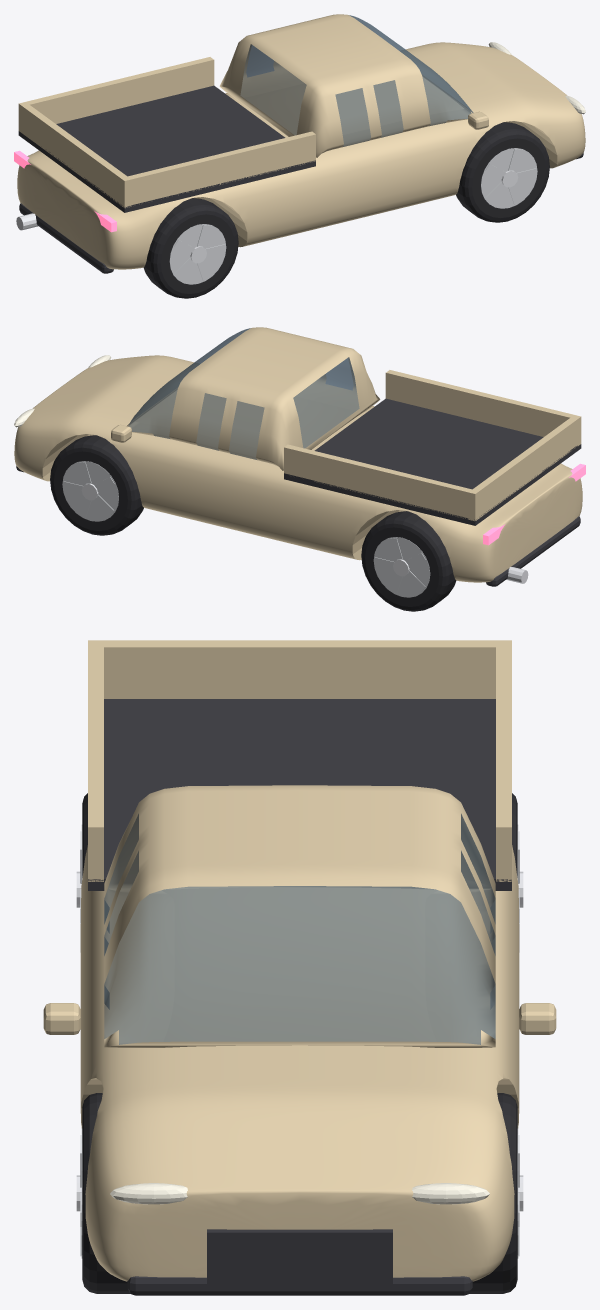
Rendered from mule_pickup.fbx.
The picture shows the model from 3 angles, top to bottom: view 1: azimuth 30°, elevation 25°; view 2: azimuth 150°, elevation 25°; view 3: azimuth 270°, elevation 25°; orthographic projection. The views are drawn at different scales.
Visible parts, largest first — view 1: Body.003, Trim.003, Tire.003, Glass.003, Rim.003, Chrome.003, TailLight.003; view 2: Body.003, Trim.003, Tire.003, Glass.003, Rim.003, Chrome.003, TailLight.003; view 3: Body.003, Glass.003, Trim.003, Tire.003, HeadLight.003, Rim.003.
Boxes of the visible parts, x1,y1,x2,y2 form: Body.003: [17, 14, 585, 269]; Trim.003: [18, 85, 583, 273]; Tire.003: [143, 122, 549, 298]; Glass.003: [240, 15, 473, 146]; Rim.003: [169, 148, 537, 284]; Chrome.003: [16, 170, 518, 263]; TailLight.003: [14, 150, 116, 232]; Body.003: [14, 327, 582, 582]; Trim.003: [16, 398, 581, 586]; Tire.003: [50, 435, 456, 611]; Glass.003: [127, 328, 359, 459]; Rim.003: [62, 461, 430, 597]; Chrome.003: [81, 483, 528, 583]; TailLight.003: [483, 463, 585, 545]; Body.003: [43, 640, 556, 1281]; Glass.003: [104, 814, 495, 1044]; Trim.003: [88, 699, 511, 1295]; Tire.003: [82, 793, 517, 1293]; HeadLight.003: [110, 1183, 489, 1204]; Rim.003: [80, 825, 519, 1258].
Size of the model in its own units: 1710 by 548 by 764.
